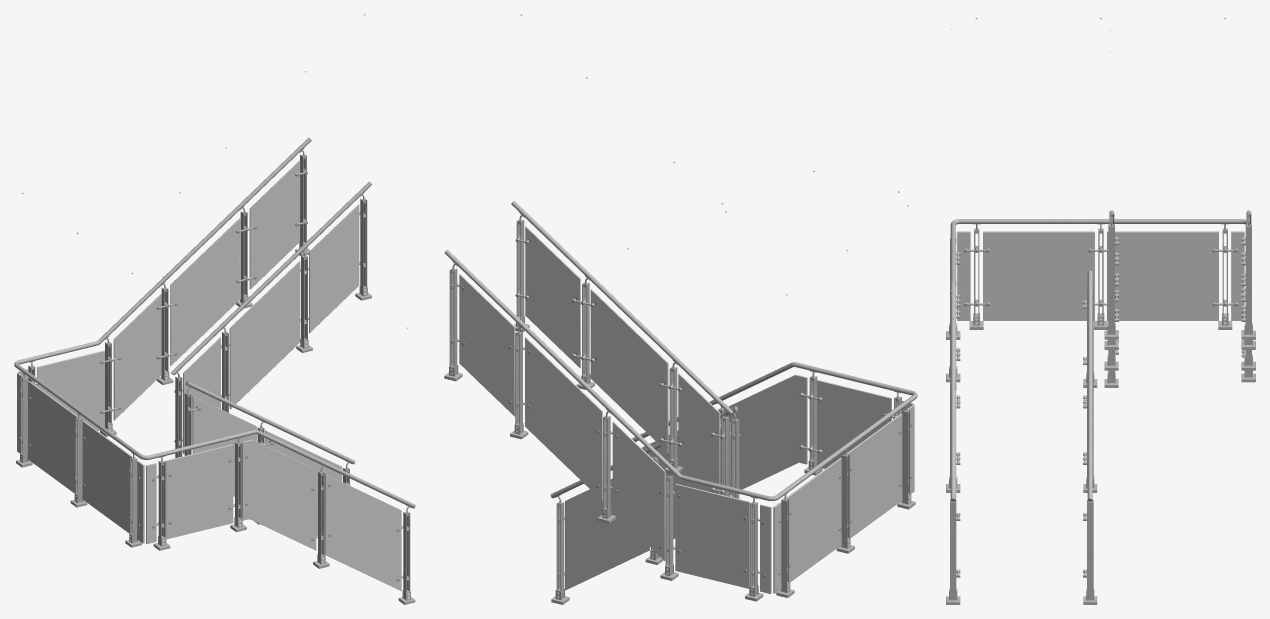
The model's file is Switchback_Railing_Ferric_Glass.gltf.
3 renders of one model, left to right at view 1: azimuth 30°, elevation 25°; view 2: azimuth 150°, elevation 25°; view 3: azimuth 270°, elevation 25°, orthographic. The views are drawn at different scales.
Parts seen in each view (by area): view 1: Infill_Glass_Raked & Horizontal Generic [8922665], Infill_Glass_Transition Generic [8922664], Infill_Glass_Raked & Horizontal Generic [8902687], Infill_Glass_Raked & Horizontal Generic [8921260], Infill_Glass_Raked & Horizontal Generic [8922662], Infill_Glass_Raked & Horizontal Generic [8921261], Infill_Glass_Raked & Horizontal Generic [8902688], Infill_Glass_Raked & Horizontal Generic [8921262], Infill_Glass_Raked & Horizontal Generic [8922378], Infill_Glass_Raked & Horizontal Generic [8922375], Infill_Glass_Raked & Horizontal Generic [8921264], Infill_Glass_Raked & Horizontal Generic [8902689] (+10 smaller); view 2: Infill_Glass_Raked & Horizontal Generic [8902687], Infill_Glass_Raked & Horizontal Generic [8921260], Infill_Glass_Raked & Horizontal Generic [8921264], Infill_Glass_Transition Generic [8922664], Infill_Glass_Raked & Horizontal Generic [8921261], Infill_Glass_Raked & Horizontal Generic [8902688], Infill_Glass_Raked & Horizontal Generic [8902690], Infill_Glass_Raked & Horizontal Generic [8921262], Infill_Glass_Raked & Horizontal Generic [8922378], Infill_Glass_Raked & Horizontal Generic [8922375], Infill_Glass_Raked & Horizontal Generic [8922662], Infill_Glass_Raked & Horizontal Generic [8902686] (+10 smaller); view 3: Infill_Glass_Raked & Horizontal Generic [8922378], Infill_Glass_Raked & Horizontal Generic [8922375], Nested_Rail LS Material [8461324], Infill_Glass_Raked & Horizontal Generic [8923032], Nested_Rail LS Material [8719249], Infill_Glass_Raked & Horizontal Generic [8923304], Nested_Bend Bend_1, FER008 - Ferric Post Material Part [8913781], FER008 - Ferric Post Material Part [8913558], FER008 - Ferric Post Material Part [8913490], FER008 - Ferric Post Material Part [8914202], Nested_Bend Bend_2 (+1 smaller).
Boxes of the visible parts, left/top/right/bottom form: Infill_Glass_Raked & Horizontal Generic [8922665]: left=325, top=474, right=401, bottom=590; Infill_Glass_Transition Generic [8922664]: left=242, top=439, right=316, bottom=550; Infill_Glass_Raked & Horizontal Generic [8902687]: left=229, top=261, right=300, bottom=409; Infill_Glass_Raked & Horizontal Generic [8921260]: left=170, top=217, right=240, bottom=365; Infill_Glass_Raked & Horizontal Generic [8922662]: left=165, top=444, right=233, bottom=539; Infill_Glass_Raked & Horizontal Generic [8921261]: left=249, top=160, right=300, bottom=289; Infill_Glass_Raked & Horizontal Generic [8902688]: left=309, top=204, right=359, bottom=333; Infill_Glass_Raked & Horizontal Generic [8921262]: left=113, top=294, right=161, bottom=420; Infill_Glass_Raked & Horizontal Generic [8922378]: left=82, top=421, right=132, bottom=533; Infill_Glass_Raked & Horizontal Generic [8922375]: left=28, top=381, right=77, bottom=493; Infill_Glass_Raked & Horizontal Generic [8921264]: left=37, top=350, right=104, bottom=430; Infill_Glass_Raked & Horizontal Generic [8902689]: left=192, top=396, right=256, bottom=496; Infill_Glass_Raked & Horizontal Generic [8902687]: left=590, top=289, right=668, bottom=452; Infill_Glass_Raked & Horizontal Generic [8921260]: left=525, top=337, right=602, bottom=500; Infill_Glass_Raked & Horizontal Generic [8921264]: left=675, top=483, right=750, bottom=588; Infill_Glass_Transition Generic [8922664]: left=726, top=374, right=807, bottom=494; Infill_Glass_Raked & Horizontal Generic [8921261]: left=459, top=274, right=515, bottom=416; Infill_Glass_Raked & Horizontal Generic [8902688]: left=525, top=226, right=580, bottom=368; Infill_Glass_Raked & Horizontal Generic [8902690]: left=565, top=478, right=649, bottom=590; Infill_Glass_Raked & Horizontal Generic [8921262]: left=612, top=421, right=665, bottom=560; Infill_Glass_Raked & Horizontal Generic [8922378]: left=846, top=413, right=902, bottom=537; Infill_Glass_Raked & Horizontal Generic [8922375]: left=786, top=458, right=841, bottom=581; Infill_Glass_Raked & Horizontal Generic [8922662]: left=817, top=380, right=891, bottom=468; Infill_Glass_Raked & Horizontal Generic [8902686]: left=678, top=373, right=720, bottom=494; Infill_Glass_Raked & Horizontal Generic [8922378]: left=983, top=231, right=1094, bottom=320; Infill_Glass_Raked & Horizontal Generic [8922375]: left=1107, top=231, right=1218, bottom=320; Nested_Rail LS Material [8461324]: left=1087, top=271, right=1092, bottom=499; Infill_Glass_Raked & Horizontal Generic [8923032]: left=957, top=231, right=970, bottom=320; Nested_Rail LS Material [8719249]: left=950, top=319, right=955, bottom=499; Infill_Glass_Raked & Horizontal Generic [8923304]: left=1231, top=231, right=1244, bottom=320; Nested_Bend Bend_1: left=1043, top=219, right=1246, bottom=224; FER008 - Ferric Post Material Part [8913781]: left=1245, top=226, right=1251, bottom=334; FER008 - Ferric Post Material Part [8913558]: left=1108, top=226, right=1114, bottom=334; FER008 - Ferric Post Material Part [8913490]: left=1087, top=502, right=1093, bottom=600; FER008 - Ferric Post Material Part [8914202]: left=950, top=502, right=956, bottom=600; Nested_Bend Bend_2: left=950, top=219, right=1042, bottom=240.
Bounding box in the file's own units: 3.05 × 5.11 × 2.38.
7 materials, 4 textured.
